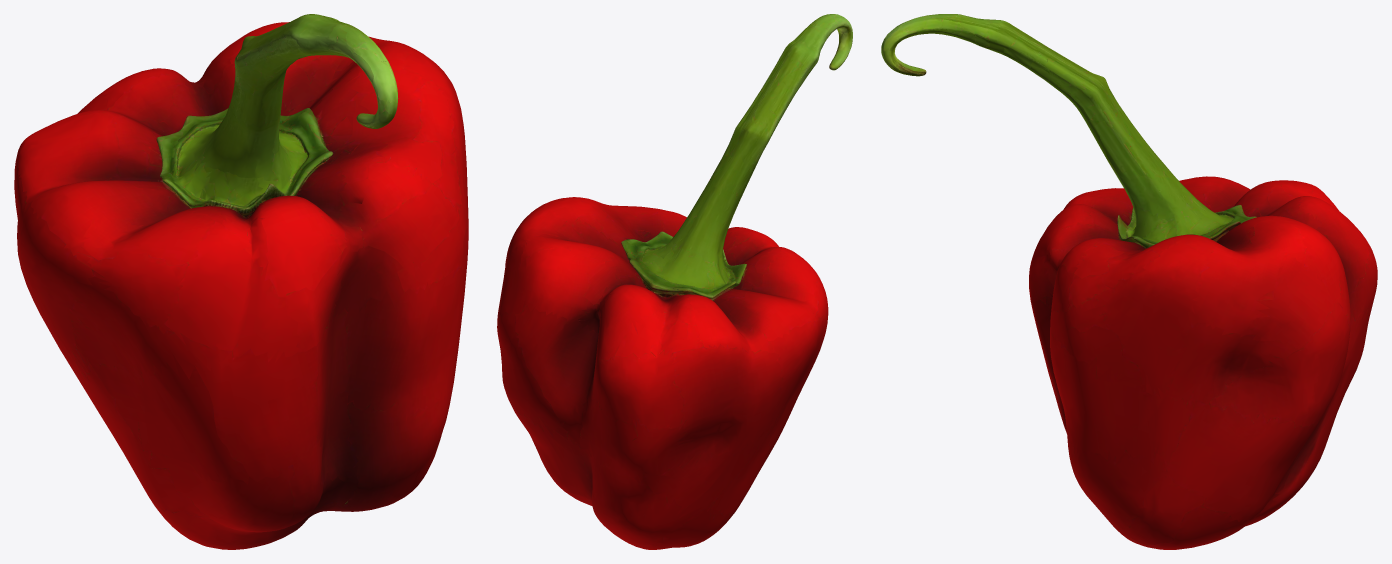
Rendered from kitchen-bell-pepper-09.glb.
The picture shows the model from 3 angles, left to right: view 1: azimuth 30°, elevation 25°; view 2: azimuth 150°, elevation 25°; view 3: azimuth 270°, elevation 25°; orthographic projection. The views are drawn at different scales.
Visible parts, largest first — view 1: orient; view 2: orient; view 3: orient.
Boxes of the visible parts, x1,y1,x2,y2 form: orient: [14, 14, 468, 549]; orient: [497, 14, 852, 549]; orient: [881, 14, 1377, 549].
Size of the model in its own units: 1.14 by 1.71 by 1.55.
Materials: 1 (1 with a texture image).
